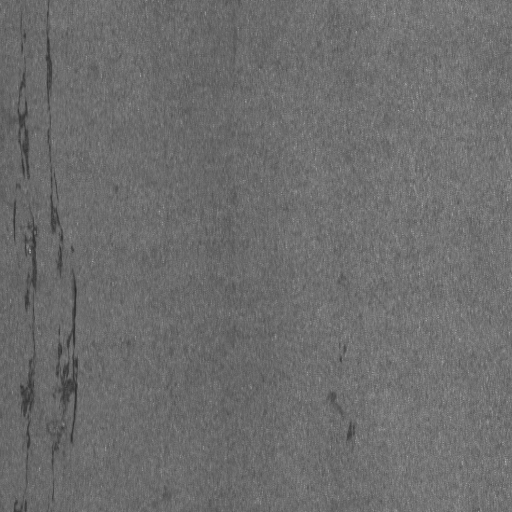xingxingliewen: (10, 1, 80, 490)
